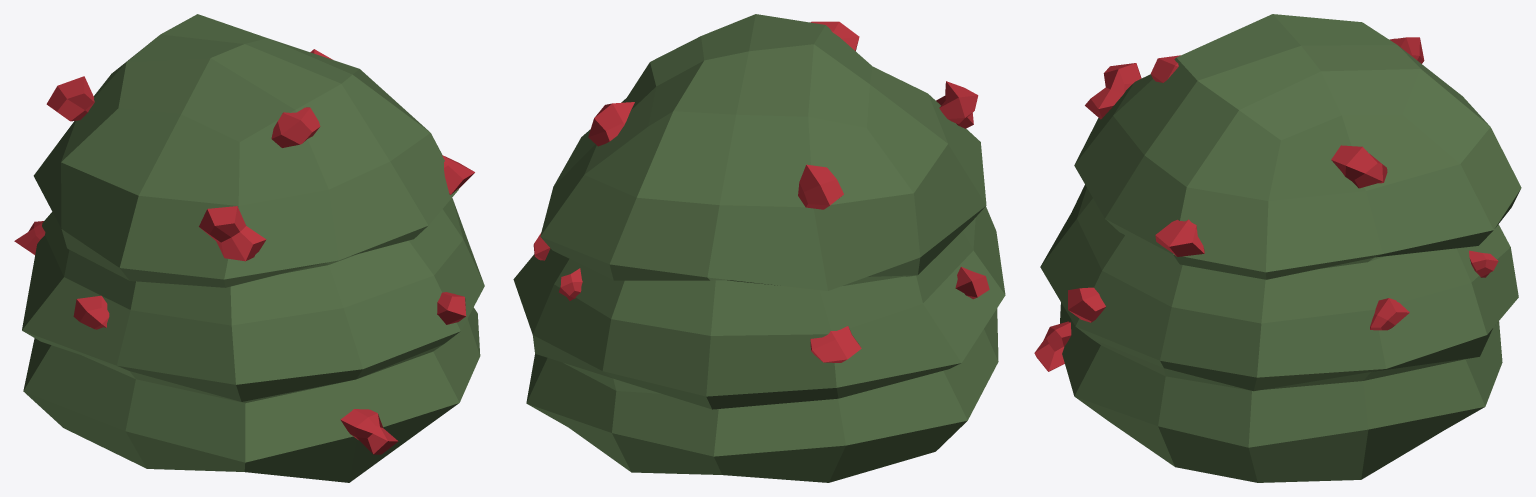
The model's file is Bush Berries 2.glb.
3 renders of one model, left to right at view 1: azimuth 30°, elevation 25°; view 2: azimuth 150°, elevation 25°; view 3: azimuth 270°, elevation 25°, orthographic. The views are drawn at different scales.
Visible parts, largest first — view 1: BushBerries_2; view 2: BushBerries_2; view 3: BushBerries_2.
Boxes of the visible parts, x1,y1,x2,y2 form: BushBerries_2: (14,14,484,482); BushBerries_2: (513,14,1005,482); BushBerries_2: (1034,14,1521,482).
Bounding box in the file's own units: 1.34 × 1.13 × 1.33.
